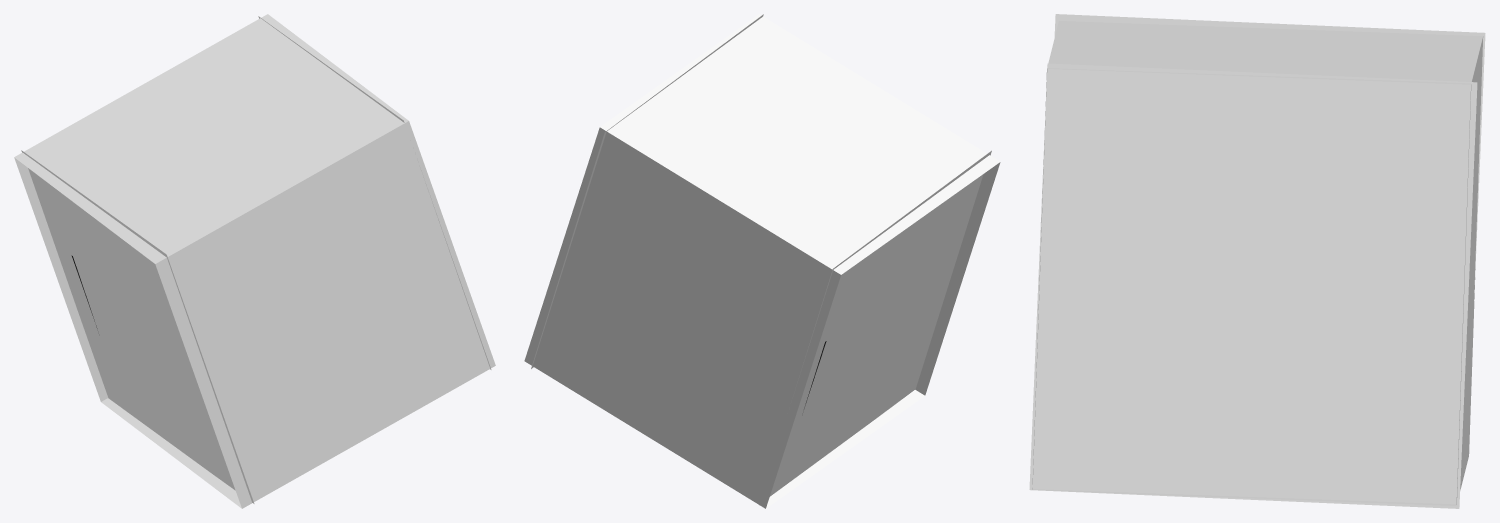
The model's file is intro-F.glb.
The picture shows the model from 3 angles, left to right: view 1: azimuth 30°, elevation 25°; view 2: azimuth 150°, elevation 25°; view 3: azimuth 270°, elevation 25°; orthographic projection. The views are drawn at different scales.
Visible parts, largest first — view 1: Cube, Cube.002; view 2: Cube, Cube.002, Cube.001; view 3: Cube.001, Cube, Cube.002.
Boxes of the visible parts, <box> form: Cube: <box>14,14,495,508</box>; Cube.002: <box>21,150,254,503</box>; Cube: <box>524,14,1000,508</box>; Cube.002: <box>759,150,991,505</box>; Cube.001: <box>531,14,763,368</box>; Cube.001: <box>1029,63,1477,508</box>; Cube: <box>1032,21,1483,505</box>; Cube.002: <box>1054,14,1485,300</box>.
Size of the model in its own units: 20.34 by 20.2 by 16.81.
41 materials, 2 textured.
